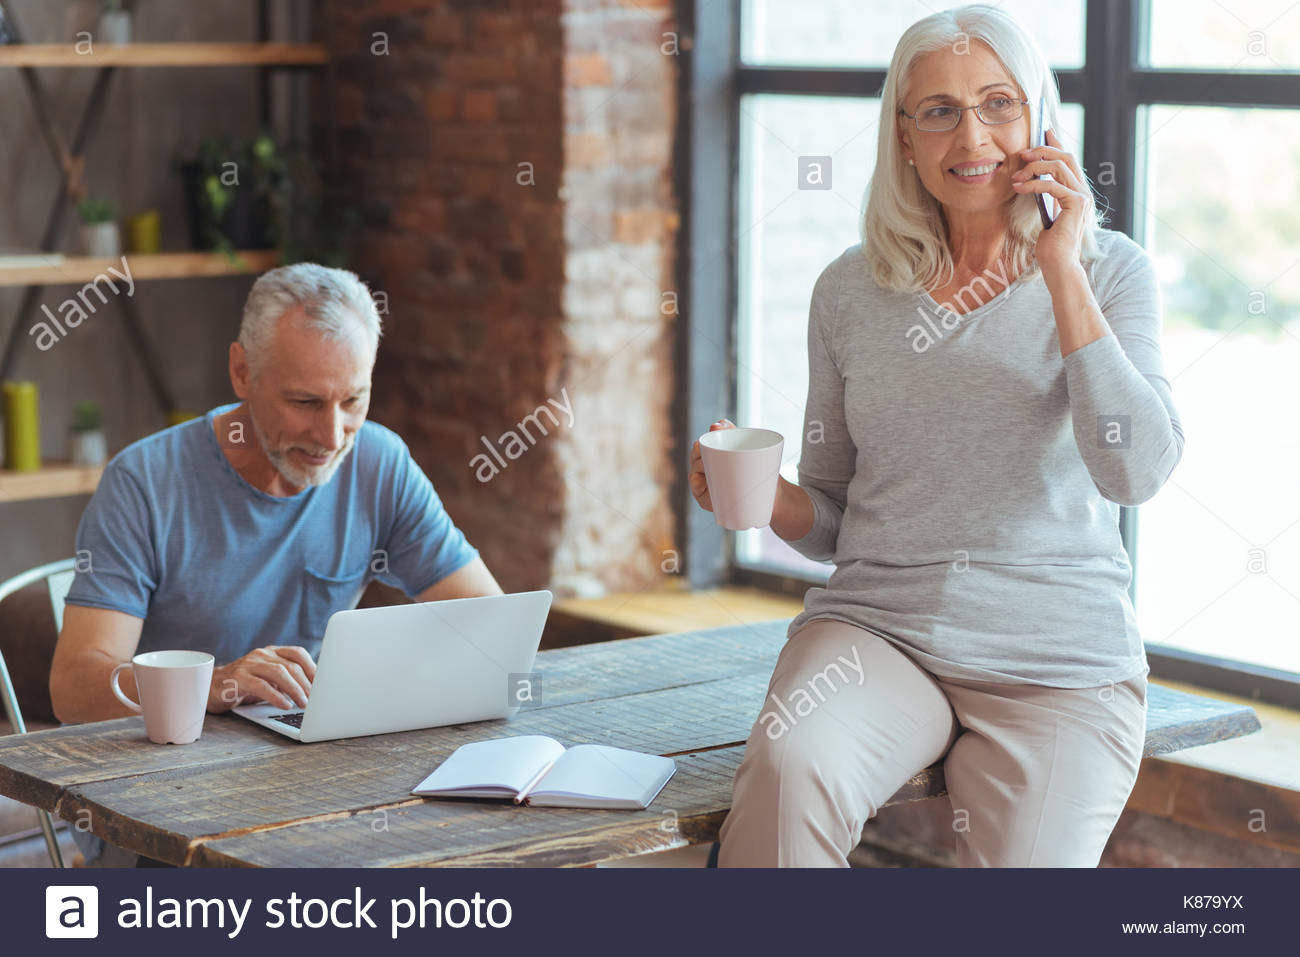phone: (1009, 104, 1092, 235)
talk: (908, 77, 1111, 265)
